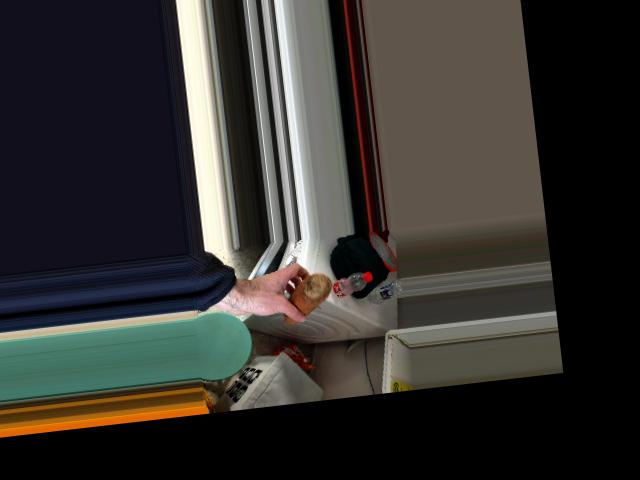sweet_potato: (281, 275, 336, 327)
